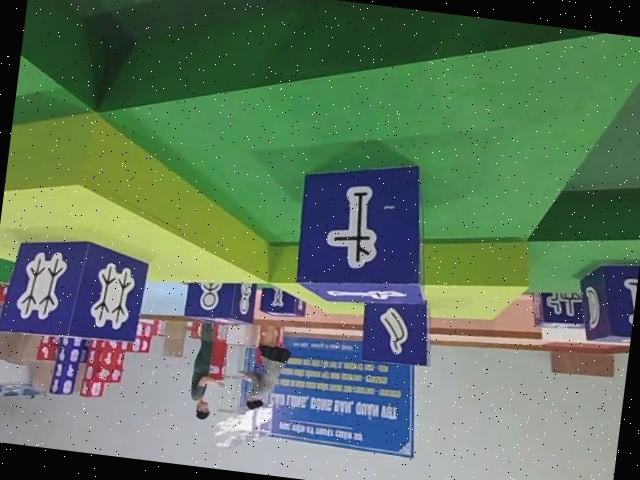R2 Real Blue: (290, 148, 439, 311), (0, 230, 151, 347), (358, 292, 437, 370), (576, 254, 640, 347), (181, 277, 254, 328), (528, 289, 588, 333), (256, 288, 306, 322)
